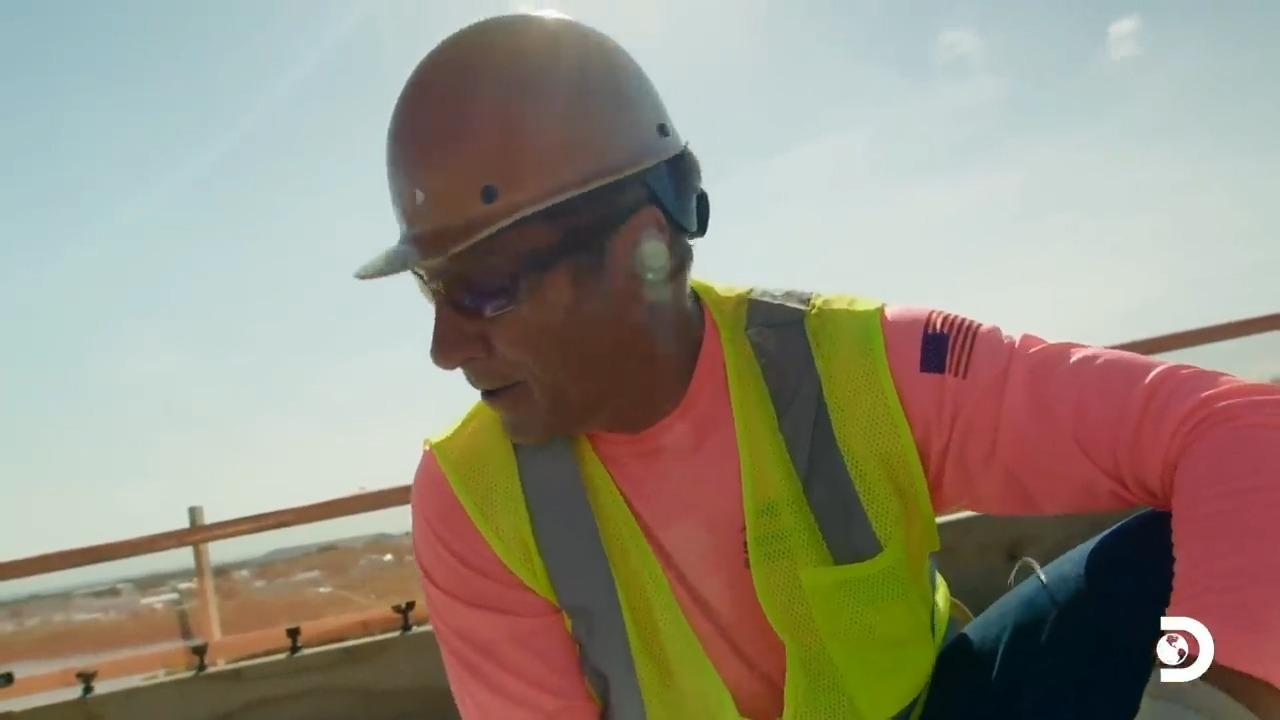Helmet: (352, 9, 709, 281)
Person: (353, 9, 1279, 719)
Safety Vest: (476, 413, 955, 694)
